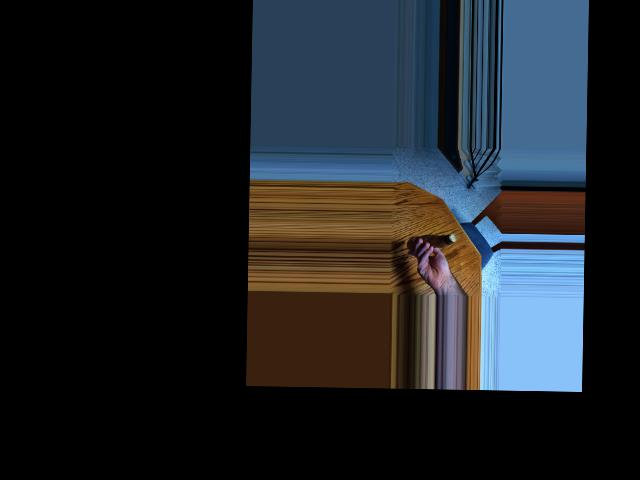sweet_potato: (406, 233, 460, 249)
